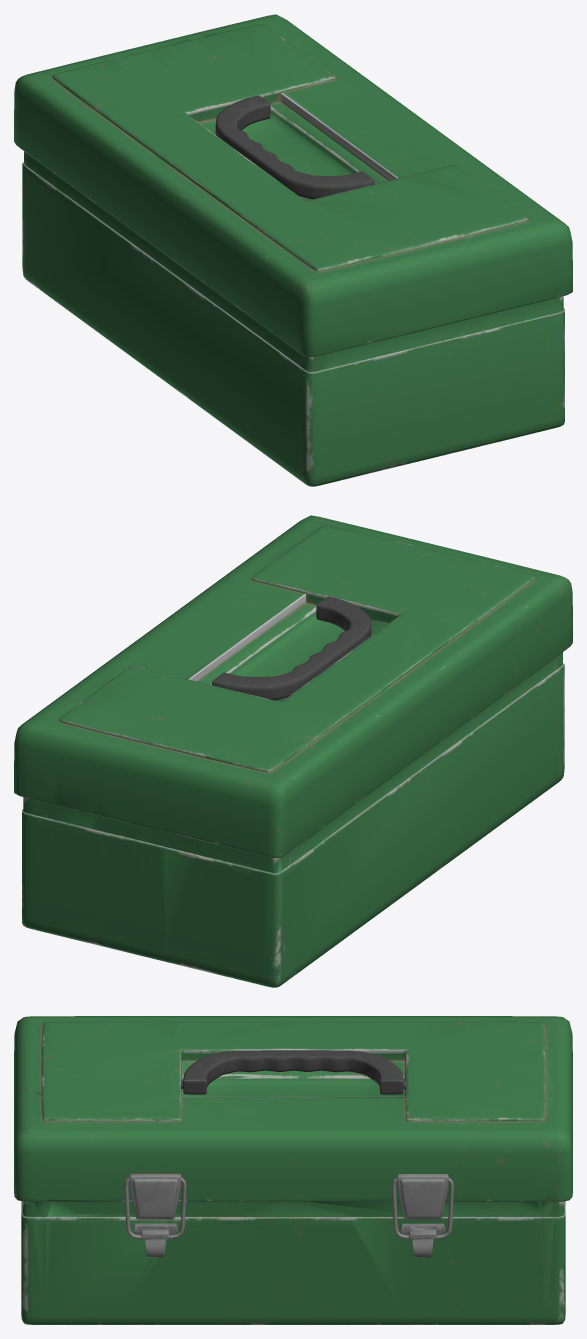
File: service-toolbox.glb
3 renders of one model, top to bottom at view 1: azimuth 30°, elevation 25°; view 2: azimuth 150°, elevation 25°; view 3: azimuth 270°, elevation 25°, orthographic. The views are drawn at different scales.
Parts seen in each view (by area): view 1: Cube.003_Skrzynka_0; view 2: Cube.003_Skrzynka_0; view 3: Cube.003_Skrzynka_0.
Boxes of the visible parts, x1,y1,x2,y2 form: Cube.003_Skrzynka_0: [14, 14, 572, 486]; Cube.003_Skrzynka_0: [14, 515, 572, 987]; Cube.003_Skrzynka_0: [14, 1016, 572, 1324].
Size of the model in its own units: 2.64 by 1.9 by 4.86.
Materials: 1 (1 with a texture image).
